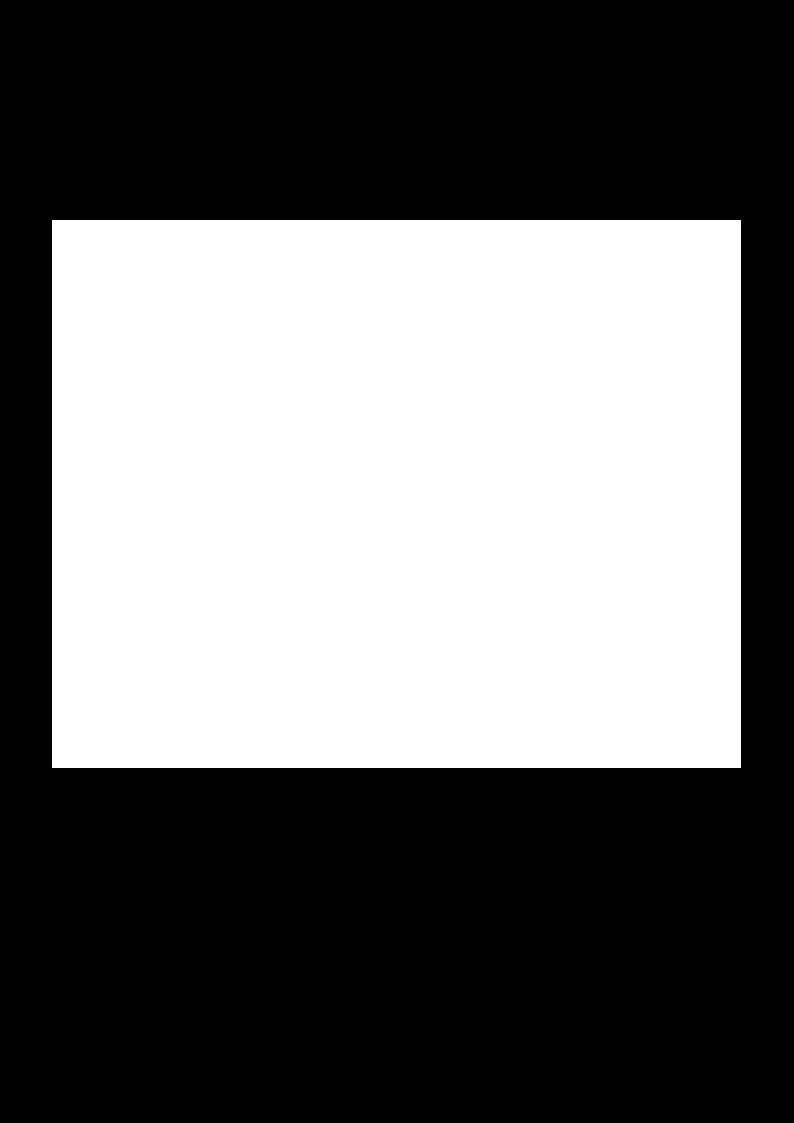table: (52, 220, 740, 767)
